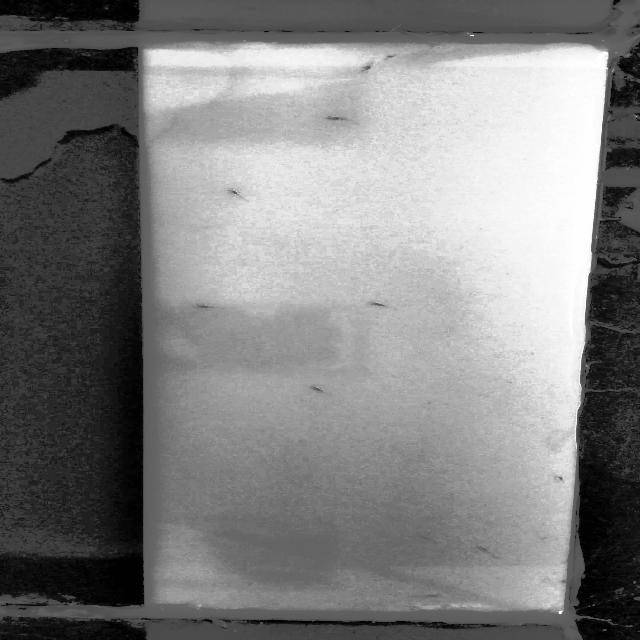shrimp: (378, 51, 404, 66), (357, 59, 381, 72), (228, 188, 250, 199), (194, 303, 225, 310), (323, 114, 350, 122), (313, 386, 334, 396), (478, 546, 498, 556), (371, 300, 391, 310), (418, 533, 442, 541), (557, 472, 570, 485), (424, 592, 442, 600)
